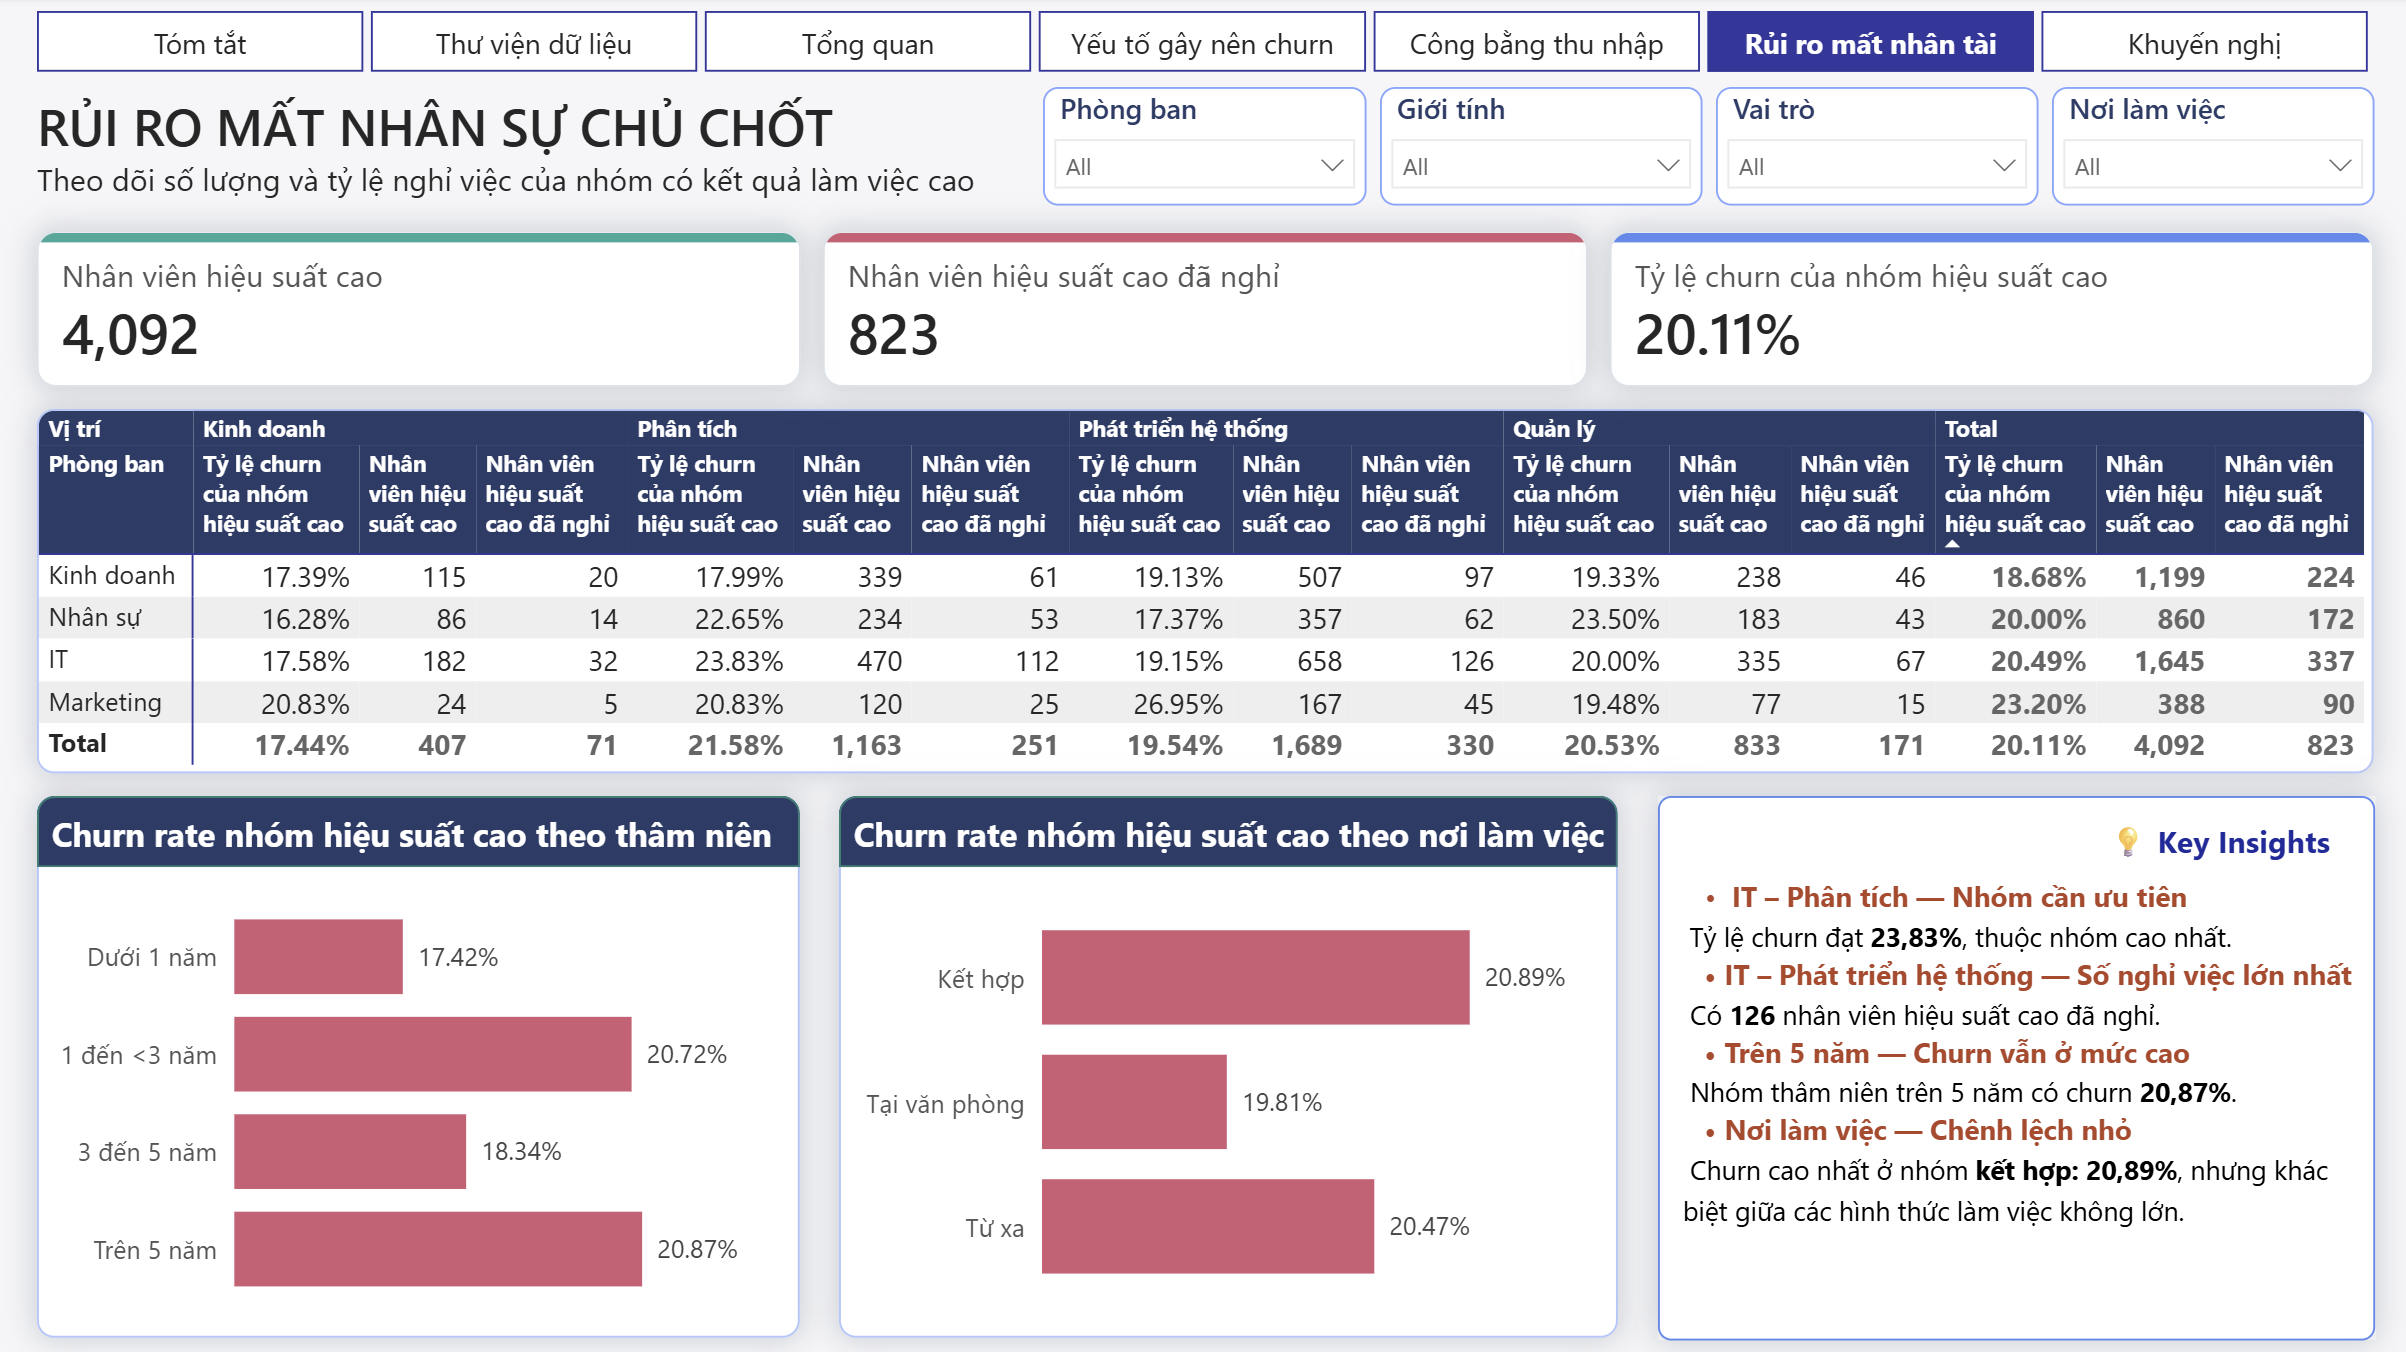

The dashboard page shown, as its layout file describes it:
{"tool":"powerbi","page":{"name":"Rủi ro mất nhân tài","canvas":[1280,720],"ordinal":5},"visuals":[{"type":"clusteredBarChart","title":"Churn của nhóm hiệu suất cao theo thâm niên","fields":{"Category":["mart_employee_analytics.tenure_band"],"Y":["All Measures.High Performer Churn Rate"]},"box":[24.6,421.5,402.1,285.7],"z":0},{"type":"textbox","box":[877.9,421.5,378.2,287],"z":0,"group":"g1"},{"type":"textbox","box":[24,48,598,72],"z":1000},{"type":"pivotTable","fields":{"Columns":["dim_job_role.job_role"],"Rows":["dim_department.department"],"Values":["All Measures.High Performer Churn Rate","All Measures.High Performer Headcount","All Measures.High Performer Churned"]},"box":[24.6,218.5,1230.9,191.4],"z":2000},{"type":"cardVisual","fields":{"Data":["All Measures.High Performer Churned"]},"box":[438.7,124,402.7,82],"z":3000},{"type":"cardVisual","fields":{"Data":["All Measures.High Performer Churn Rate"]},"box":[853.3,124,402.7,82],"z":4000},{"type":"clusteredBarChart","title":"Churn của nhóm hiệu suất cao theo nơi làm việc","fields":{"Category":["dim_work_location.work_location"],"Y":["All Measures.High Performer Churn Rate"]},"box":[447.4,421.5,409.9,285.7],"z":5000},{"type":"cardVisual","fields":{"Data":["All Measures.High Performer Headcount"]},"box":[24,124,402.7,82],"z":6000},{"type":"pageNavigator","box":[24,8,1232,32],"z":7000},{"type":"shape","box":[24.6,421.5,402.1,37.5],"z":8000},{"type":"shape","box":[447.4,421.5,409.9,37.5],"z":9000},{"type":"group","id":"g1","title":"Group 1","box":[877.9,421.5,378.8,287],"z":10000},{"type":"slicer","fields":{"Values":["dim_work_location.work_location"]},"box":[1085.3,48,170.1,62.3],"z":11000},{"type":"slicer","fields":{"Values":["dim_job_role.job_role"]},"box":[908.3,48,170,62.3],"z":12000},{"type":"slicer","fields":{"Values":["dim_gender.gender"]},"box":[731.3,48,170,62.3],"z":13000},{"type":"slicer","fields":{"Values":["dim_department.department"]},"box":[554.3,48,170.1,62.3],"z":14000},{"type":"textbox","box":[1108.4,428,148.3,34.5],"z":14000,"group":"g1"}]}

Visuals, with their boxes in screenshot pixels (x1, y1, x2, y2), scaled from the page's 1280x720 canvas onto the 2406x1352 screenshot:
"Churn của nhóm hiệu suất cao theo thâm niên" clusteredBarChart: BBox(46, 791, 802, 1328)
textbox: BBox(1650, 791, 2361, 1330)
textbox: BBox(45, 90, 1169, 225)
pivotTable - dim_job_role.job_role x dim_department.department: BBox(46, 410, 2360, 770)
cardVisual - All Measures.High Performer Churned: BBox(825, 233, 1582, 387)
cardVisual - All Measures.High Performer Churn Rate: BBox(1604, 233, 2361, 387)
"Churn của nhóm hiệu suất cao theo nơi làm việc" clusteredBarChart: BBox(841, 791, 1611, 1328)
cardVisual - All Measures.High Performer Headcount: BBox(45, 233, 802, 387)
pageNavigator: BBox(45, 15, 2361, 75)
shape: BBox(46, 791, 802, 862)
shape: BBox(841, 791, 1611, 862)
"Group 1" group: BBox(1650, 791, 2362, 1330)
slicer - dim_work_location.work_location: BBox(2040, 90, 2360, 207)
slicer - dim_job_role.job_role: BBox(1707, 90, 2027, 207)
slicer - dim_gender.gender: BBox(1375, 90, 1694, 207)
slicer - dim_department.department: BBox(1042, 90, 1362, 207)
textbox: BBox(2083, 804, 2362, 868)
